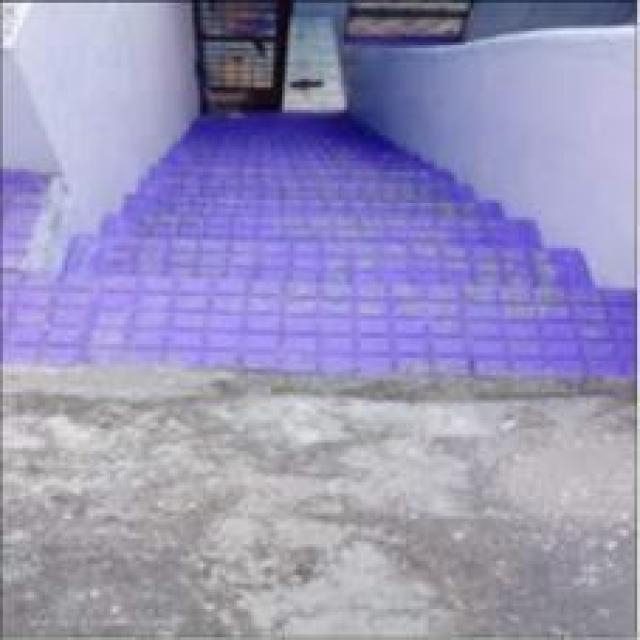downstair: (103, 170, 514, 348)
